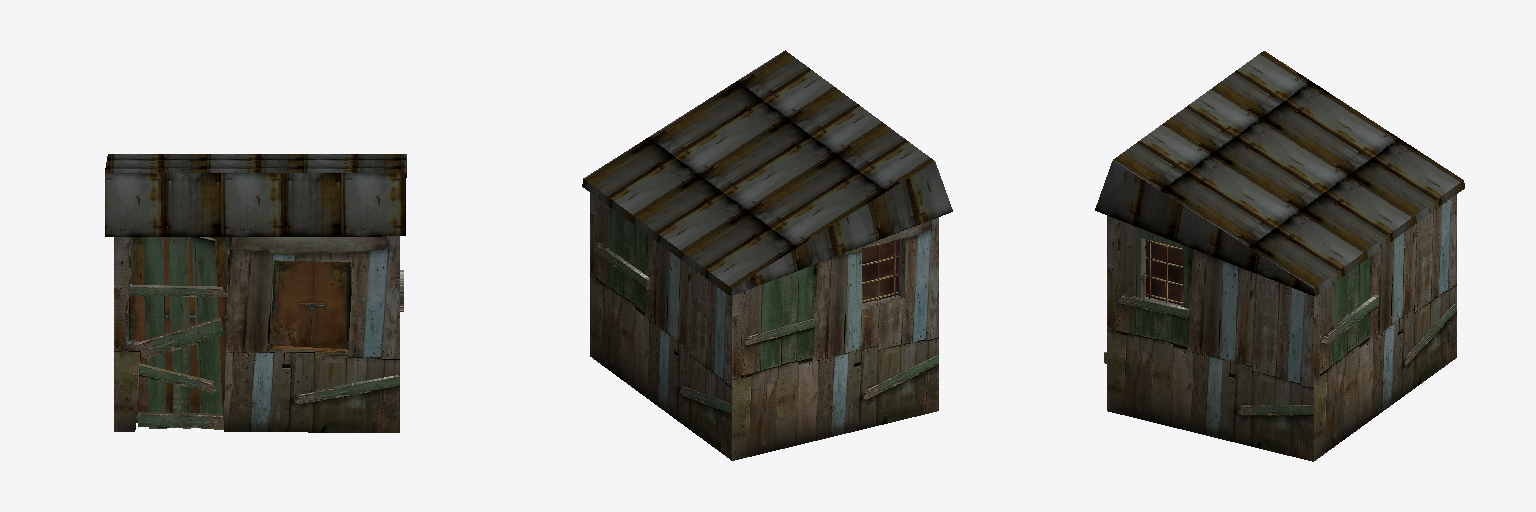
3 renders of one model, left to right at view 1: azimuth 30°, elevation 25°; view 2: azimuth 150°, elevation 25°; view 3: azimuth 270°, elevation 25°, orthographic.
Bounding box in the file's own units: 101 × 73.58 × 96.36.
Materials: 4 (4 with a texture image).